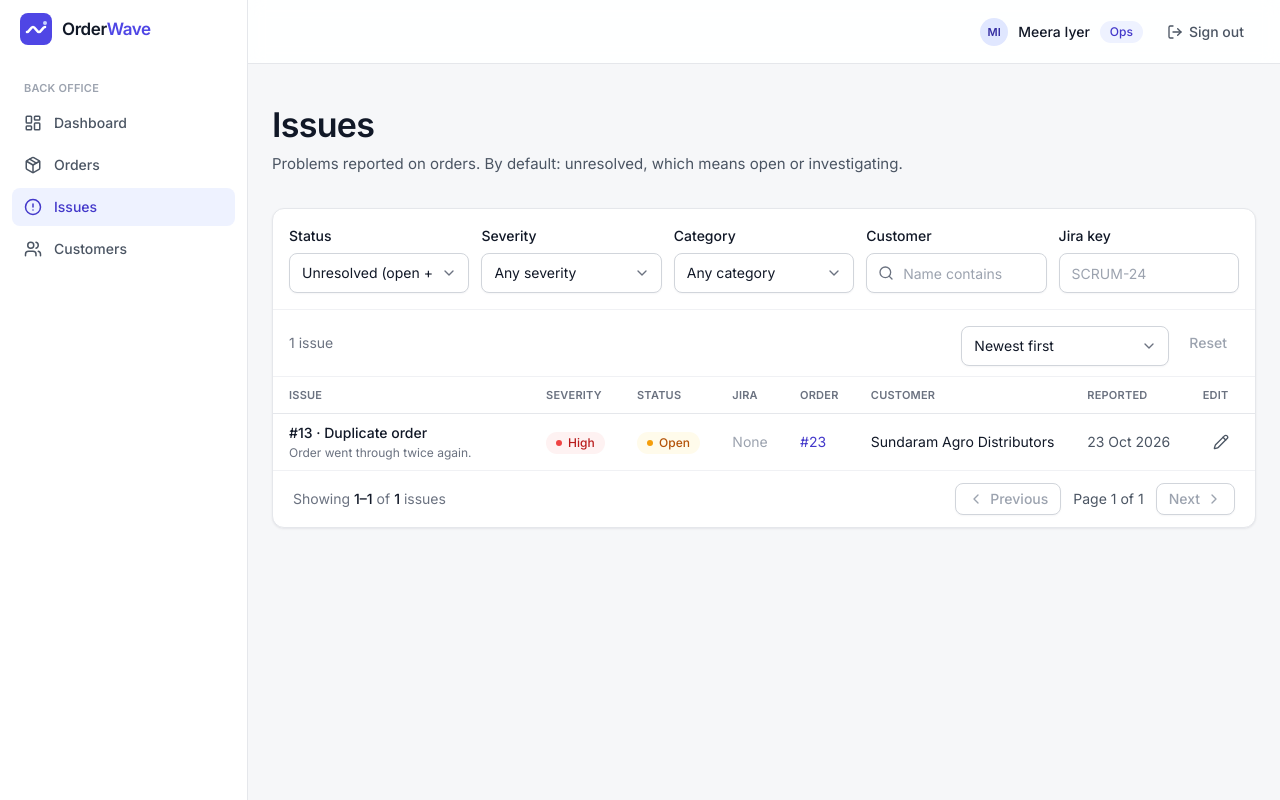
Test case: issue editor › rejects a badly formatted Jira key, then saves status and key
The width and height of the screenshot is (1280, 800).
Step 1. Click the button named "Edit issue 13" → (1221, 442), box [1203,424,1239,460]
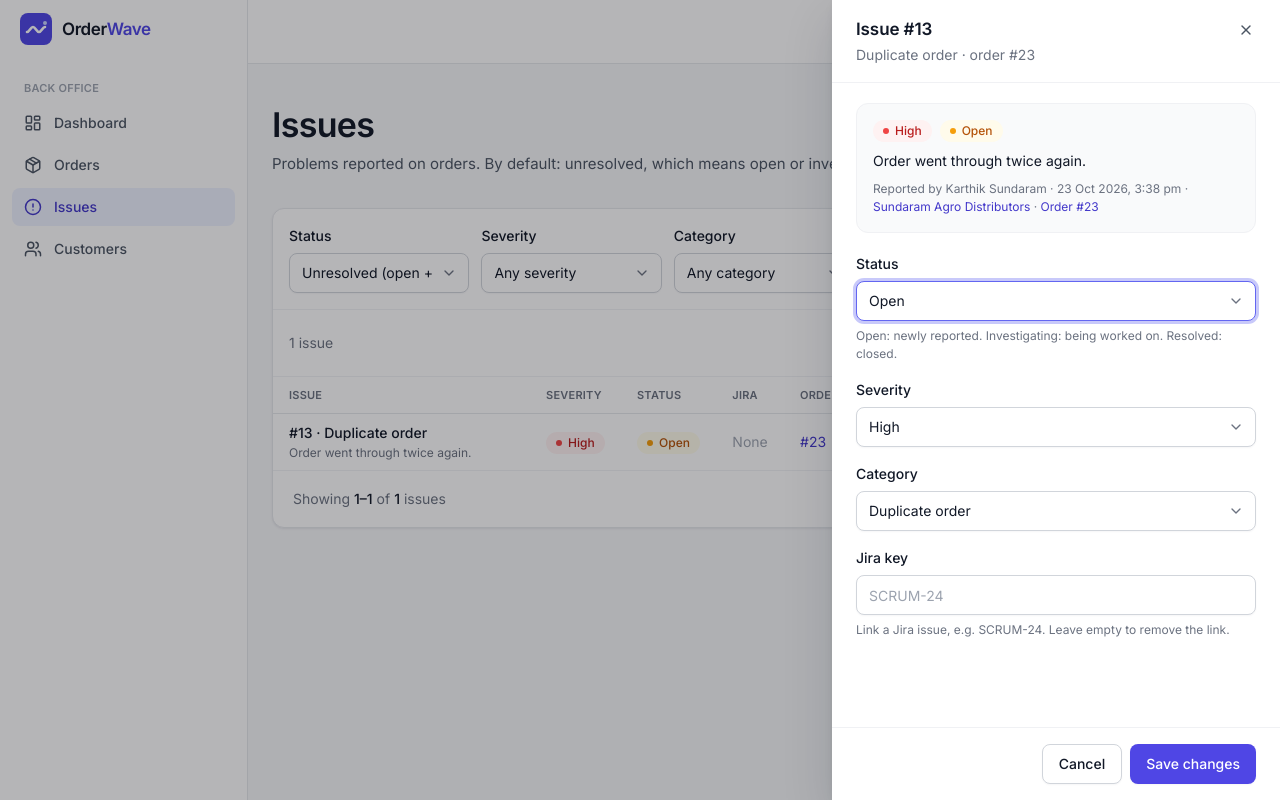
Step 2. Type "scrum 24" into the field labelled "Jira key" → (1056, 595), box [856,575,1256,615]
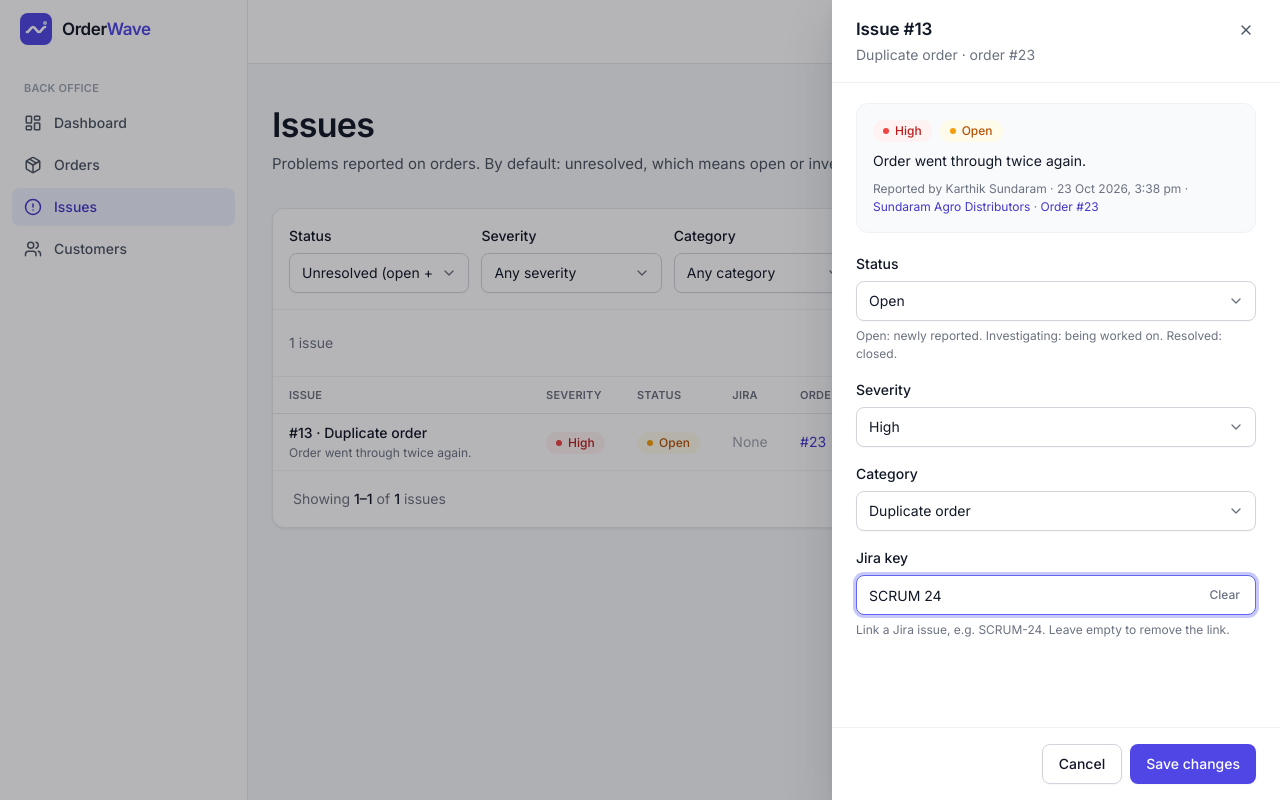
Step 3. Click the button "Save changes" → (1193, 764), box [1130,744,1256,784]
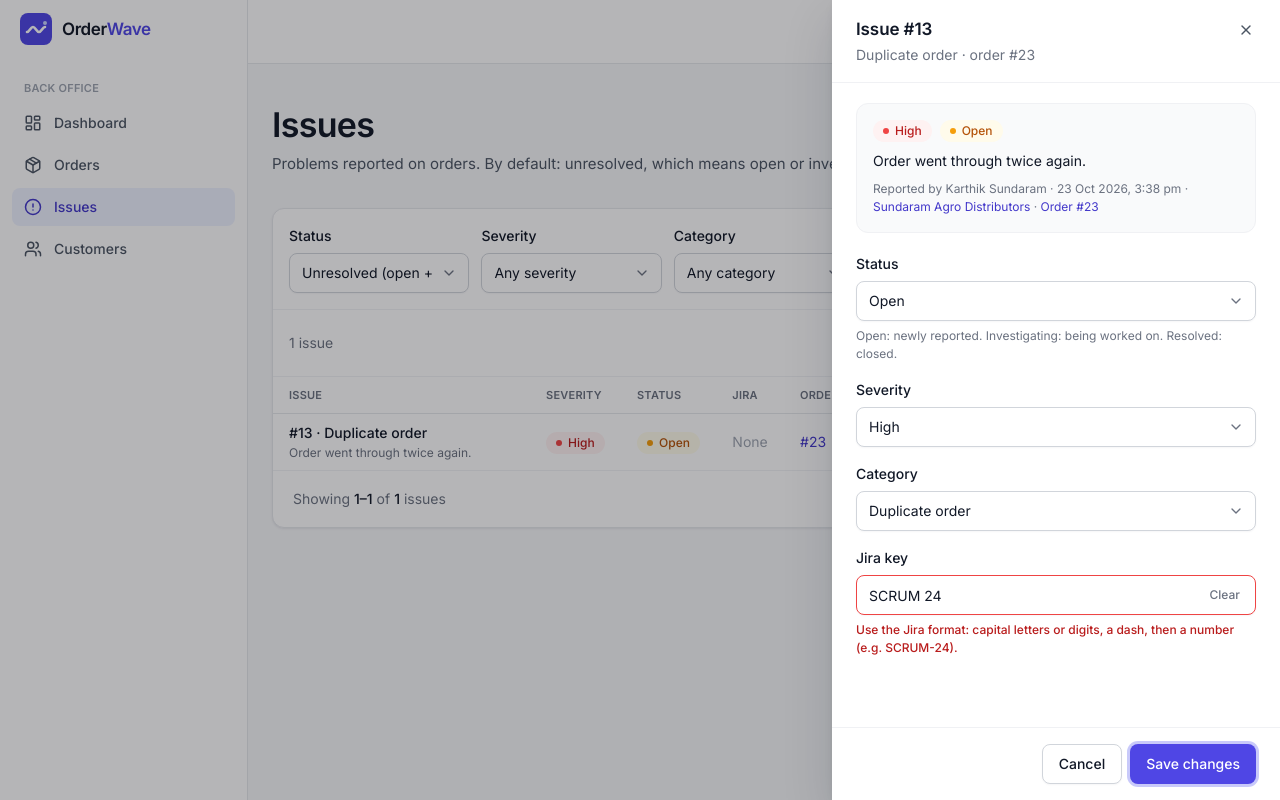
Check: the text "Use the Jira format" is shown, box [856,622,1234,655]
Step 4. Replace the text in the field labelled "Jira key" with "scrum-24" → (1056, 595), box [856,575,1256,615]
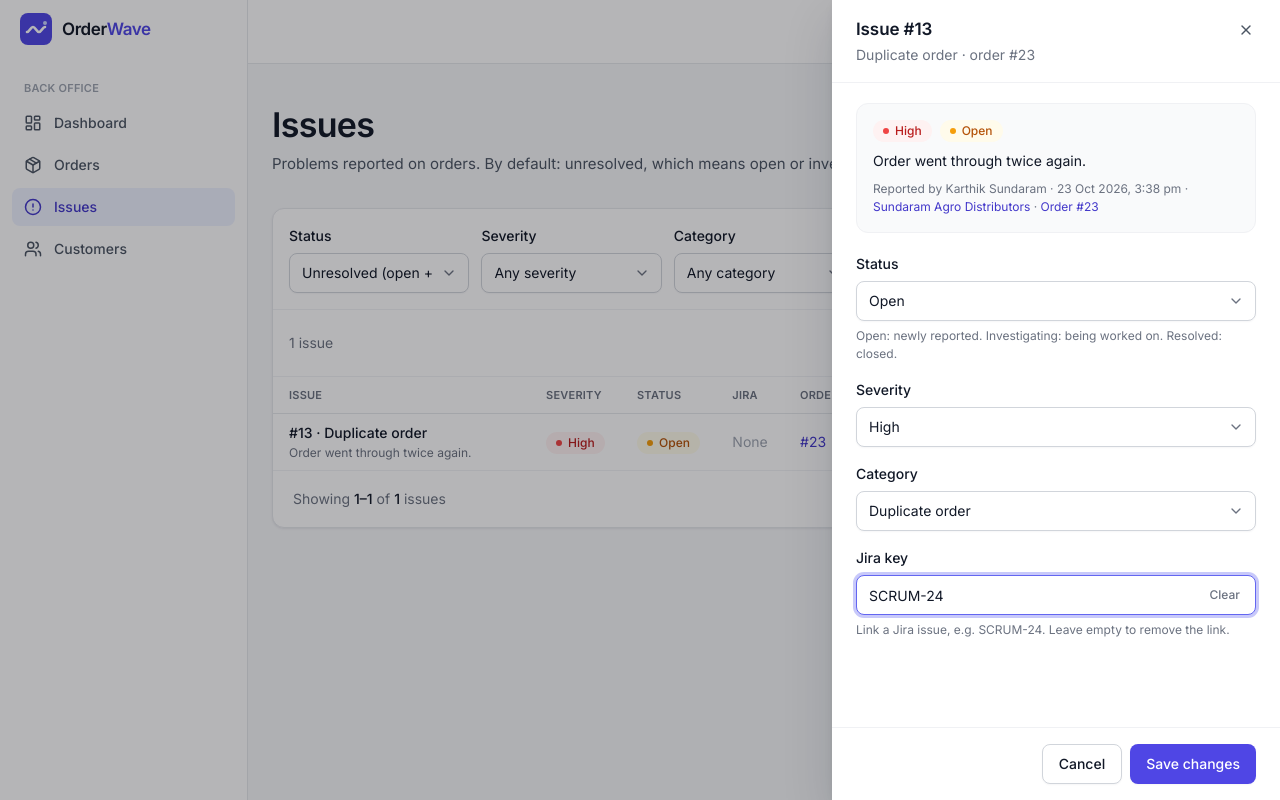
Step 5. Select "Investigating" in the dropdown labelled "Status" → (1056, 301), box [856,281,1256,321]
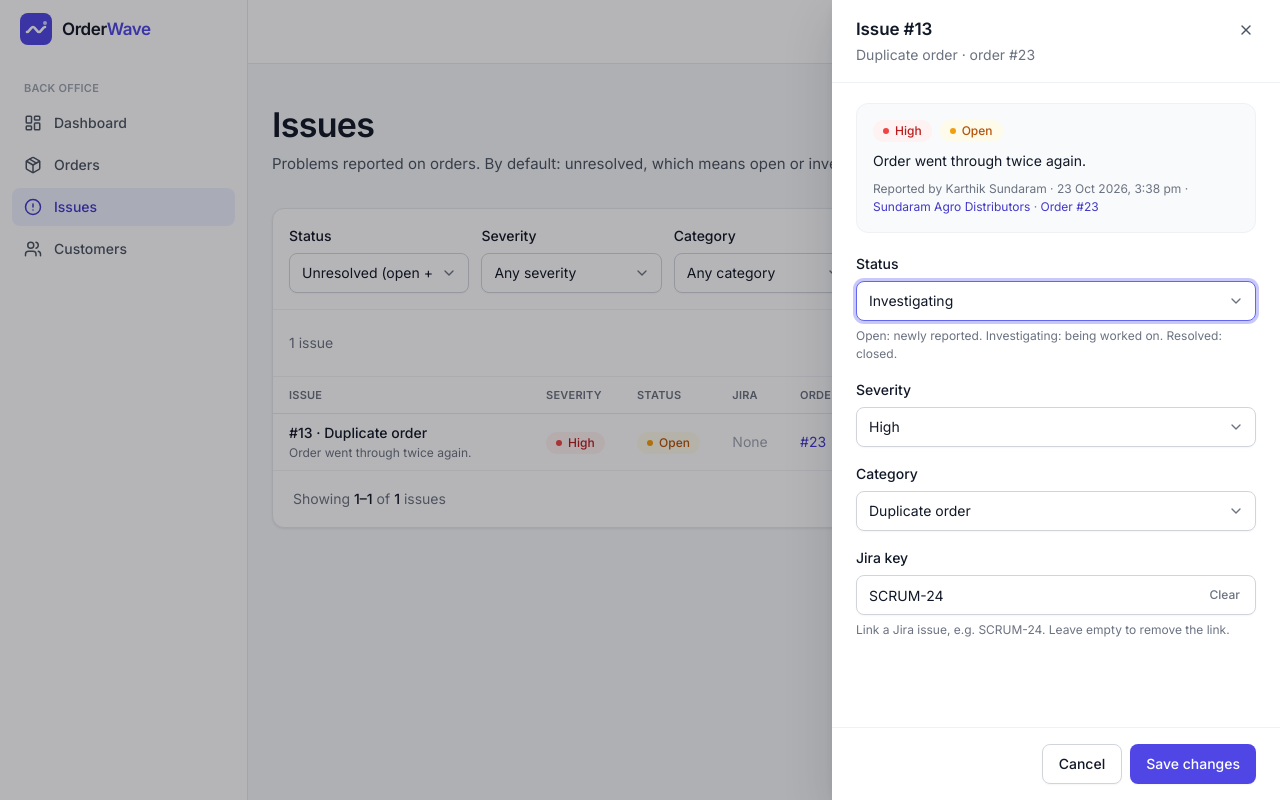
Step 6. Click the button "Save changes" → (1193, 764), box [1130,744,1256,784]
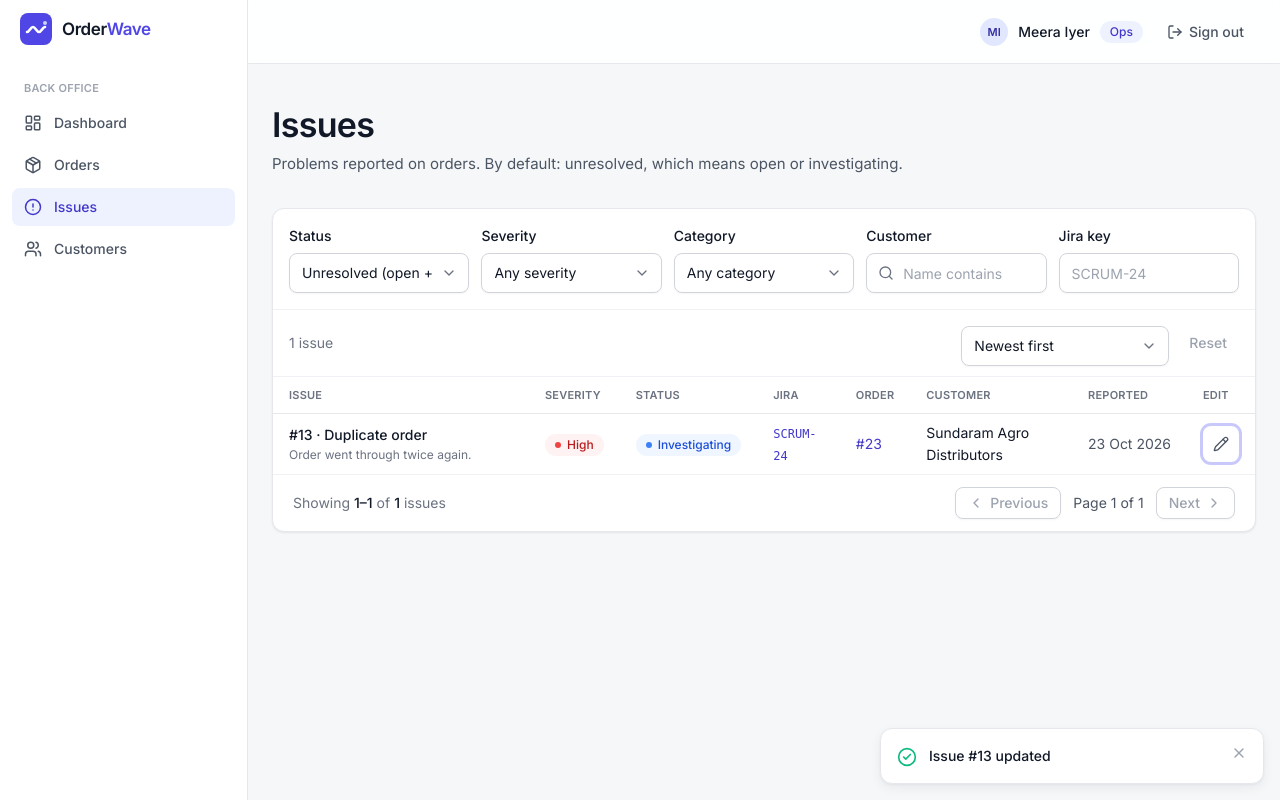
Check: the text "SCRUM-24" is shown, box [773,427,817,463]
Check: the dialog is gone
